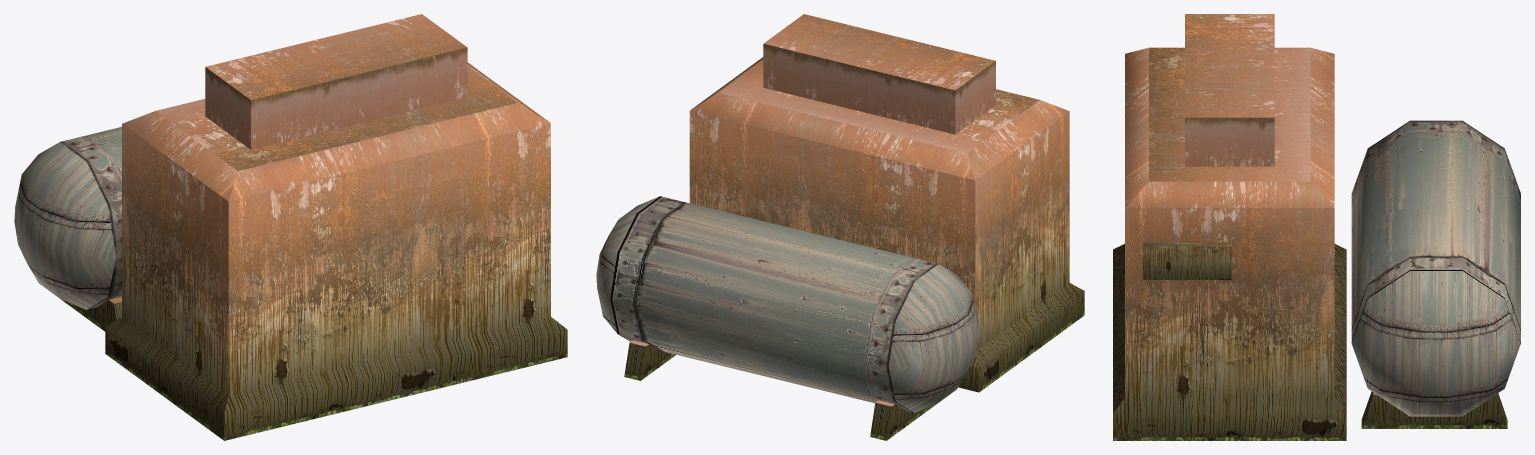
The model's file is tank01_lod1.fbx.
3 views of the same model, side by side, from view 1: azimuth 30°, elevation 25°; view 2: azimuth 150°, elevation 25°; view 3: azimuth 270°, elevation 25° (orthographic). The views are drawn at different scales.
Visible parts, largest first — view 1: Mesh Object; view 2: Mesh Object; view 3: Mesh Object.
Boxes of the visible parts, x1,y1,x2,y2 form: Mesh Object: (14,14,567,440); Mesh Object: (596,14,1084,440); Mesh Object: (1113,14,1520,440).
Bounding box in the file's own units: 4.98 × 3.51 × 4.43.
